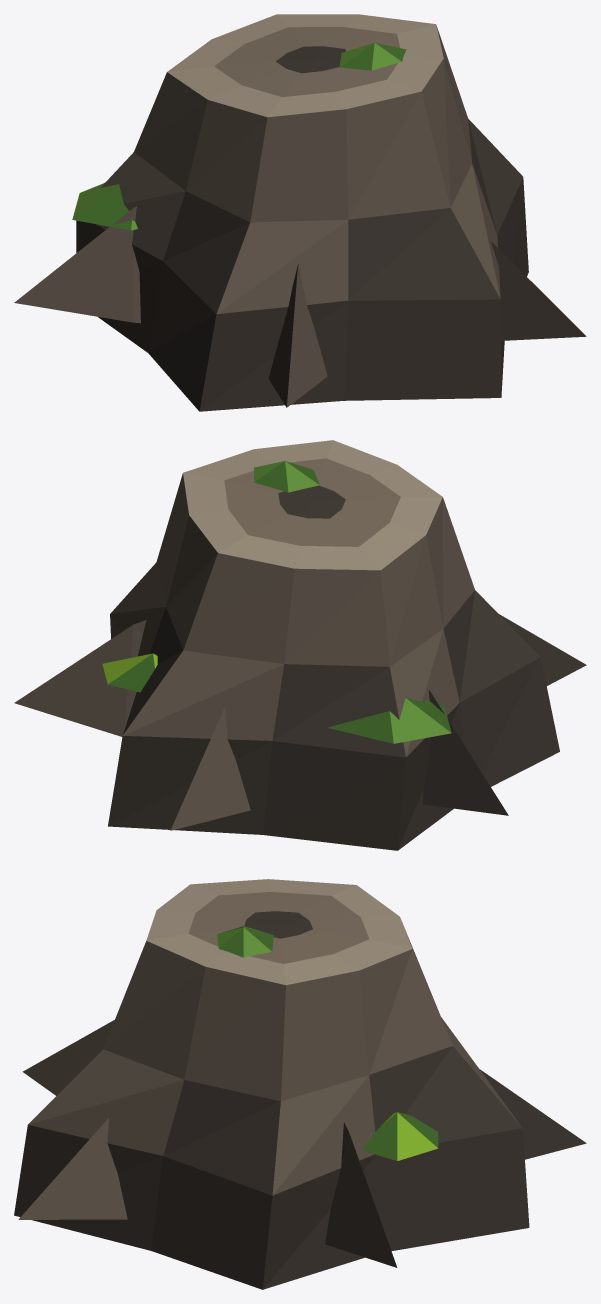
File: stump_weathered.glb
3 views of the same model, one above another, from view 1: azimuth 30°, elevation 25°; view 2: azimuth 150°, elevation 25°; view 3: azimuth 270°, elevation 25° (orthographic). The views are drawn at different scales.
Visible parts, largest first — view 1: stump_weathered; view 2: stump_weathered; view 3: stump_weathered.
Boxes of the visible parts, x1,y1,x2,y2 form: stump_weathered: [14, 14, 586, 411]; stump_weathered: [14, 440, 586, 850]; stump_weathered: [14, 879, 586, 1289].
Size of the model in its own units: 1.34 by 0.7199 by 1.33.
